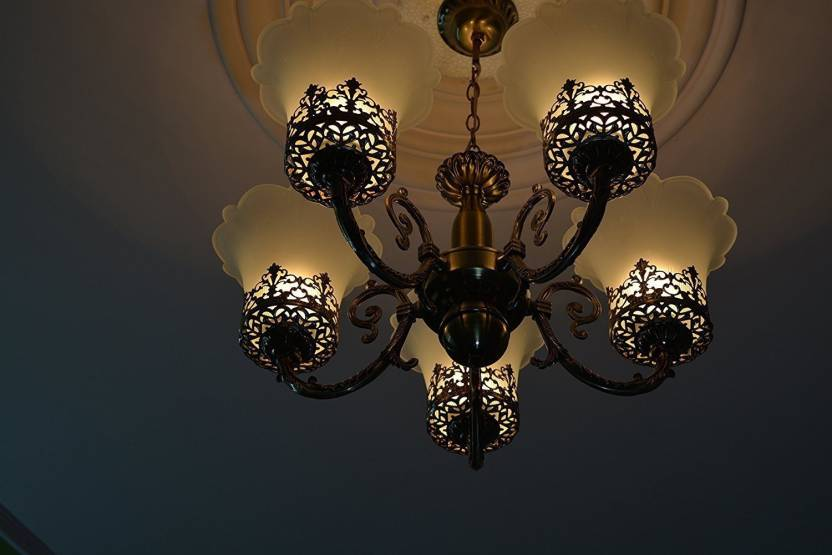chandelier: (204, 5, 747, 481)
